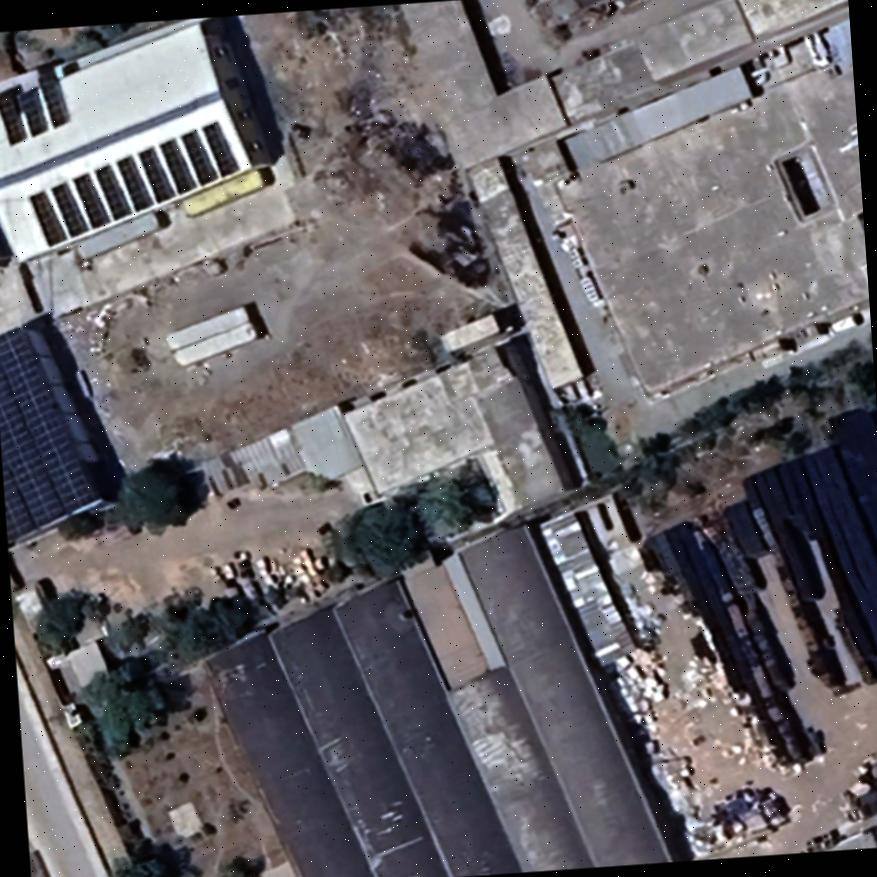Solarpanel: (21, 112, 249, 252), (0, 319, 111, 554), (0, 58, 72, 150), (866, 820, 877, 846)
